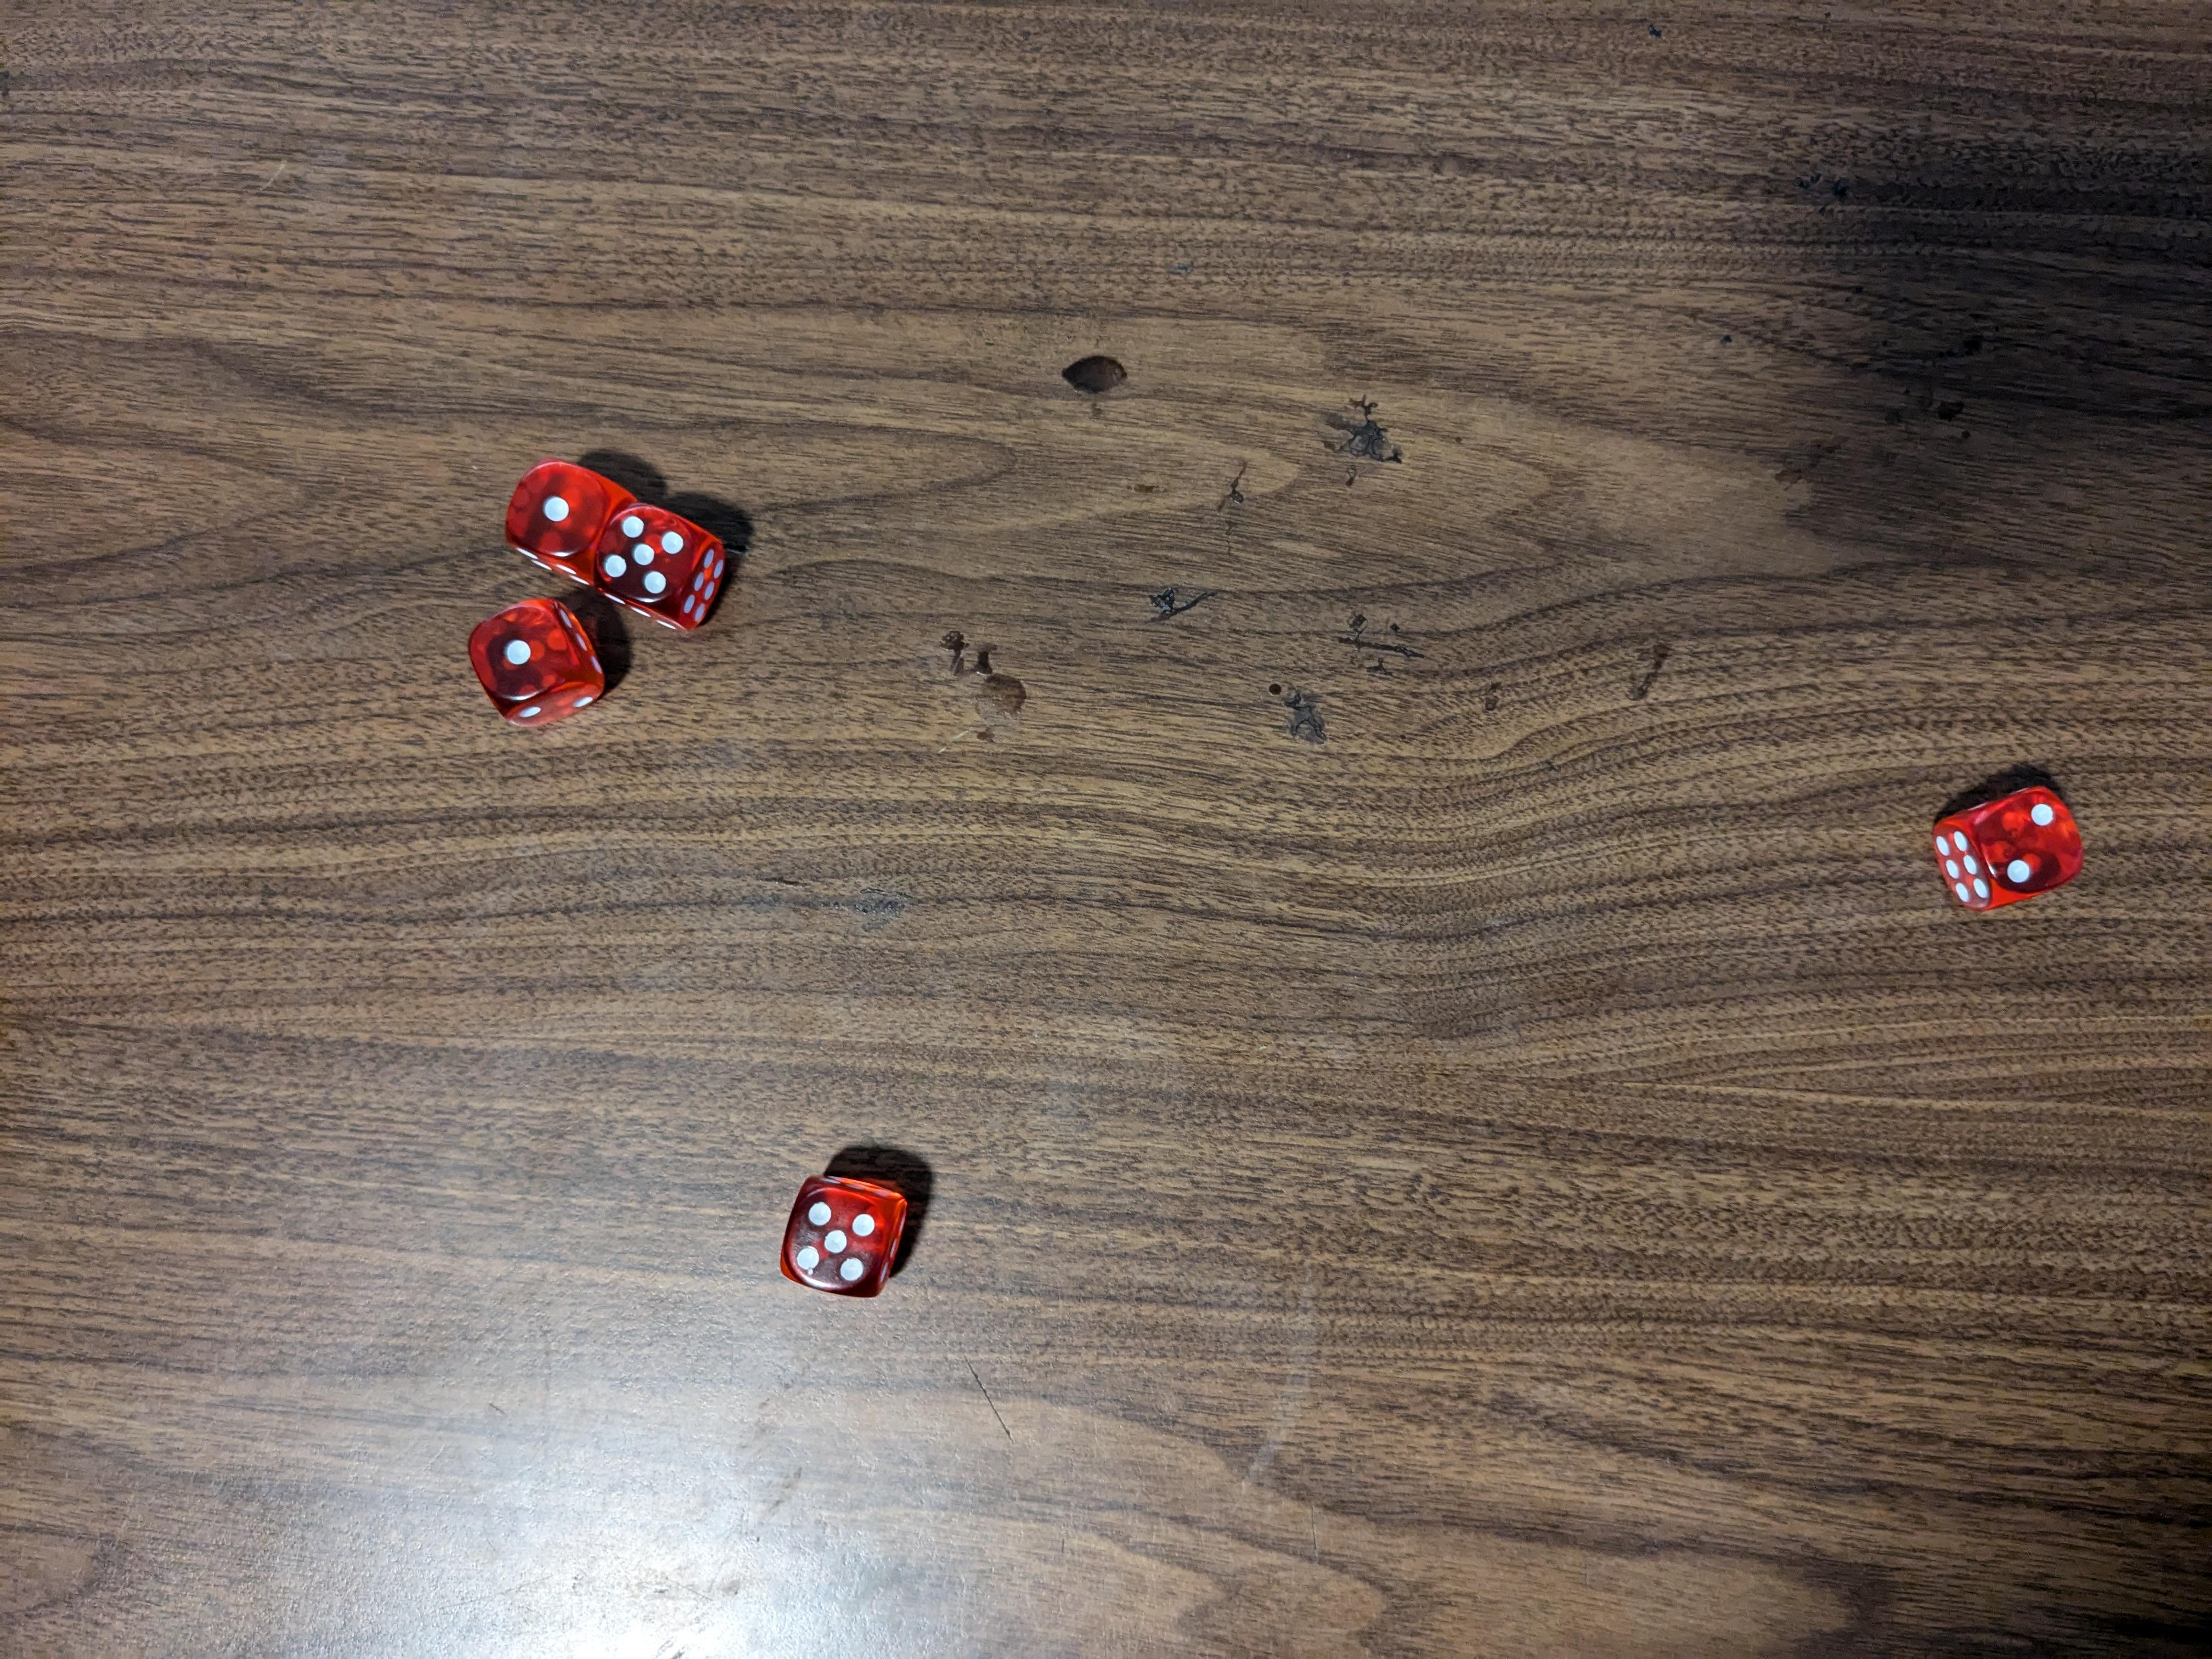five: (596, 505, 733, 643), (777, 1168, 909, 1300)
one: (463, 596, 610, 728), (500, 453, 636, 580)
two: (1932, 786, 2085, 910)
